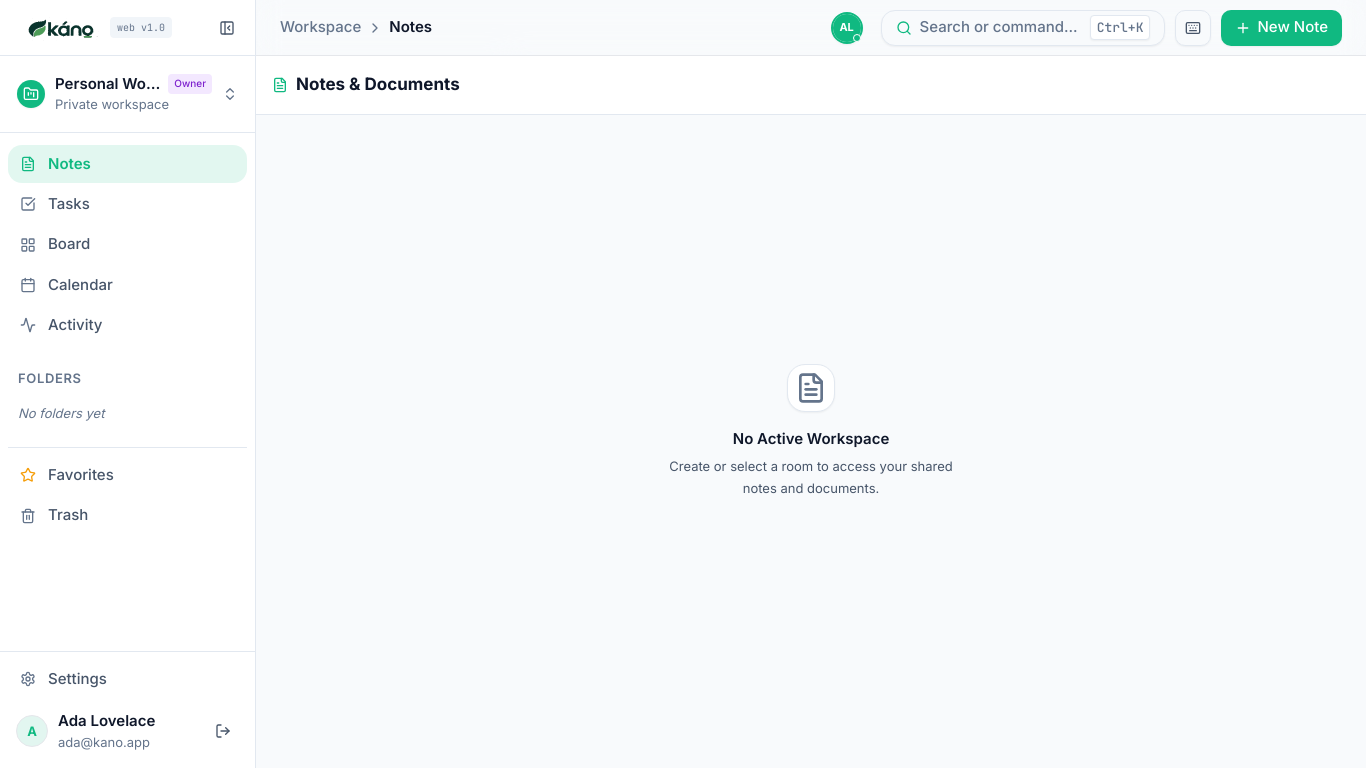
Test: káno̱ Workspace Shell & Navigation › navigates via Search Palette selection
The width and height of the screenshot is (1366, 768).
# Open via Ctrl+K
Press k
(page scrolled)
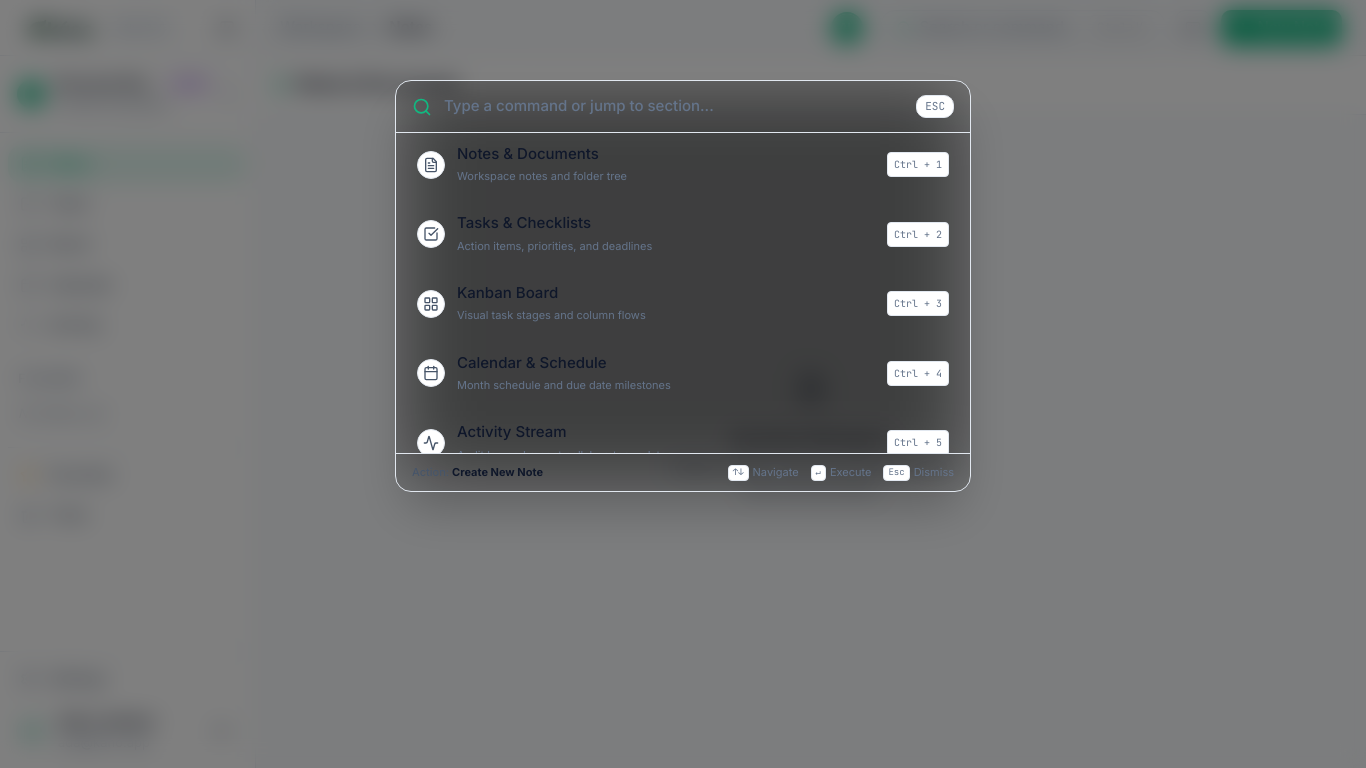
Click the text "Kanban Board" at (508, 293), box x1=457 y1=282 x2=558 y2=304
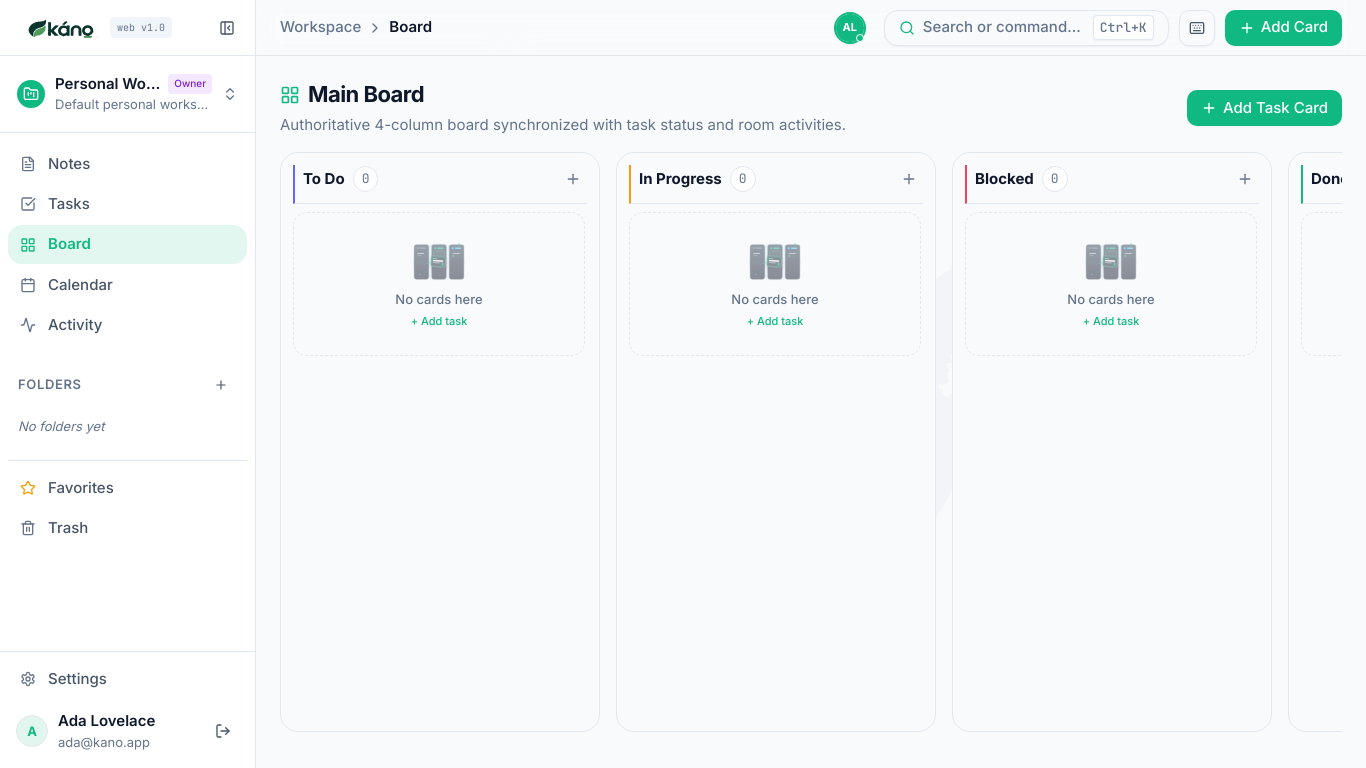
Check: the heading named "Main Kanban Board" is shown, box x1=280 y1=81 x2=424 y2=107
